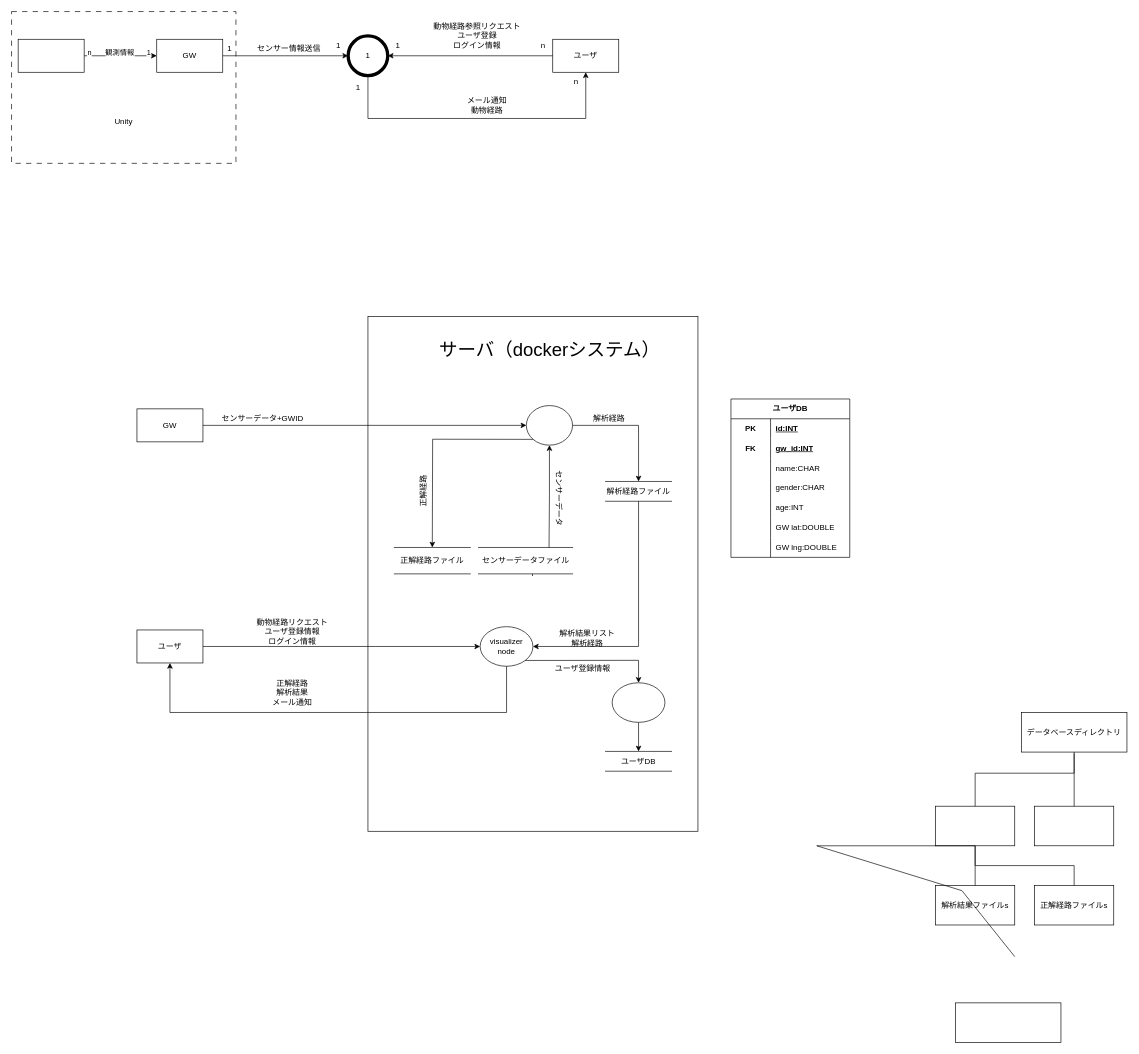
This 1139x1054 diagram has some shape labels left out. Each missing label, with the centre of its shape:
"analyzer node" goes at pixel 549 425.
"GW1" goes at pixel 975 826.
"GW2" goes at pixel 1074 826.
"user_db" goes at pixel 638 702.
"センサノード" goes at pixel 50 55.
"センサーデータファイルs" goes at pixel 1008 1022.
